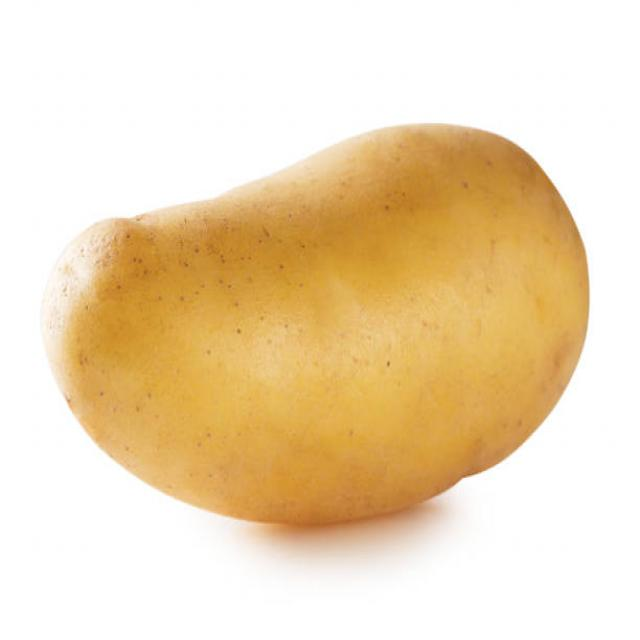Potato: (38, 109, 599, 536)
